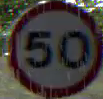Speed limit: (8, 1, 99, 97)
